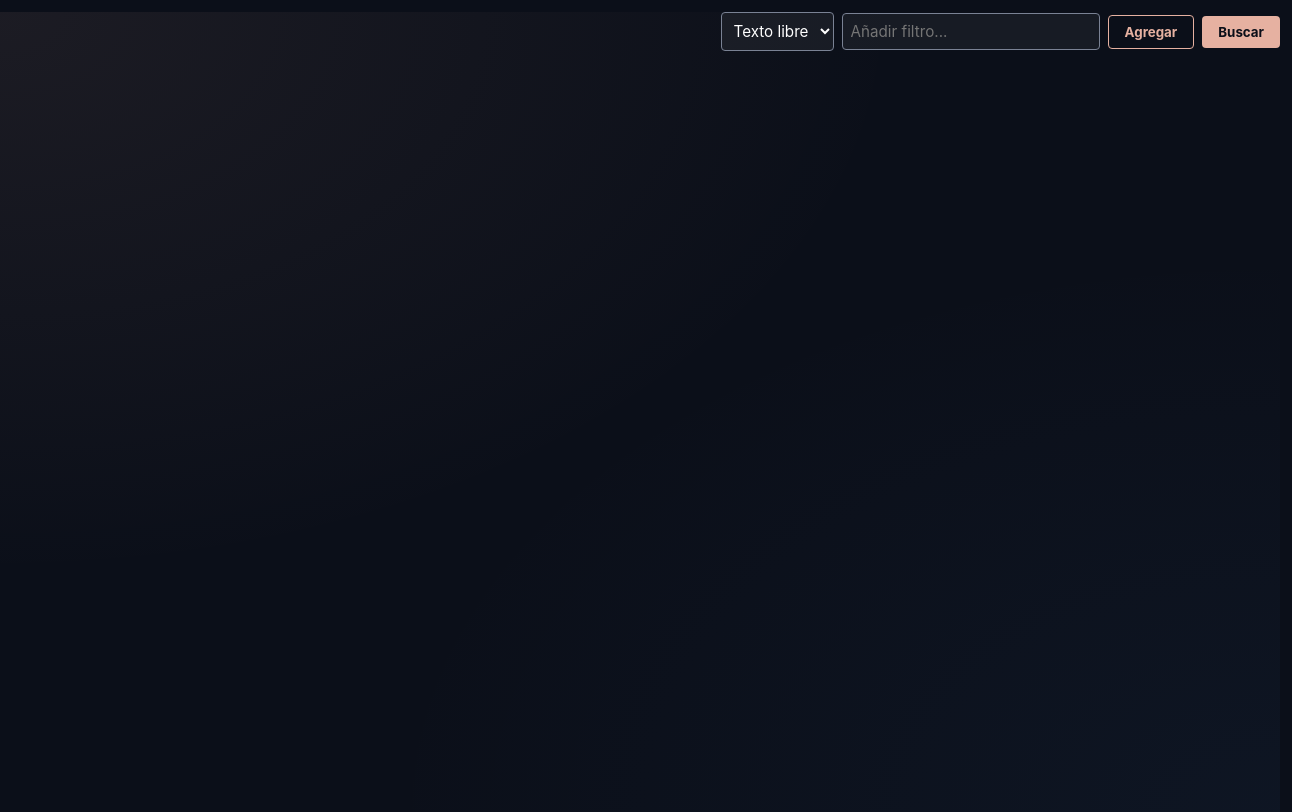
Scenario: SearchBar con nombres accesibles › el selector, el campo y el botón de quitar filtro tienen nombre
Expected: the dropdown named "Buscar en" is shown, [721,12,834,51]
In the field labelled "Añadir filtro": (971, 32) [842,13,1100,50], type "garcia"
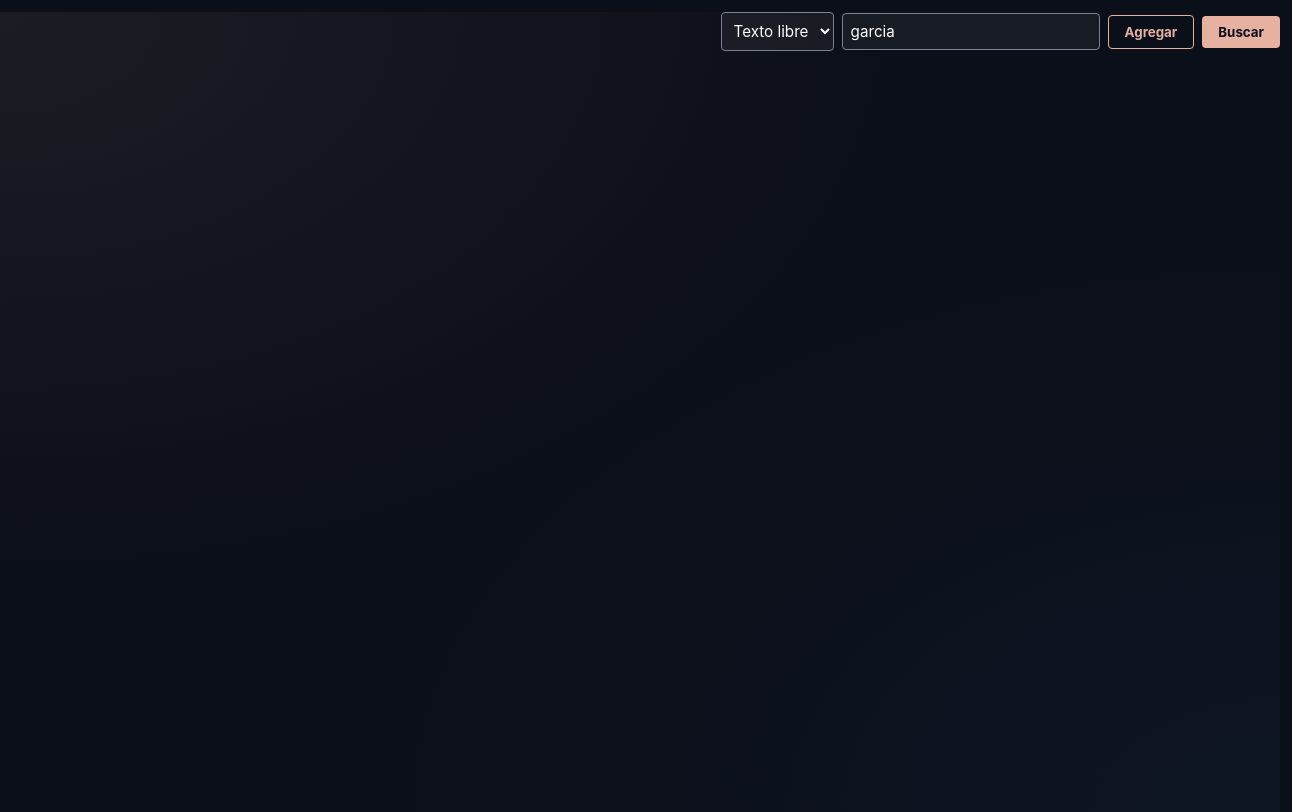
Submit the form named "Añadir filtro", box [721,12,1280,51]
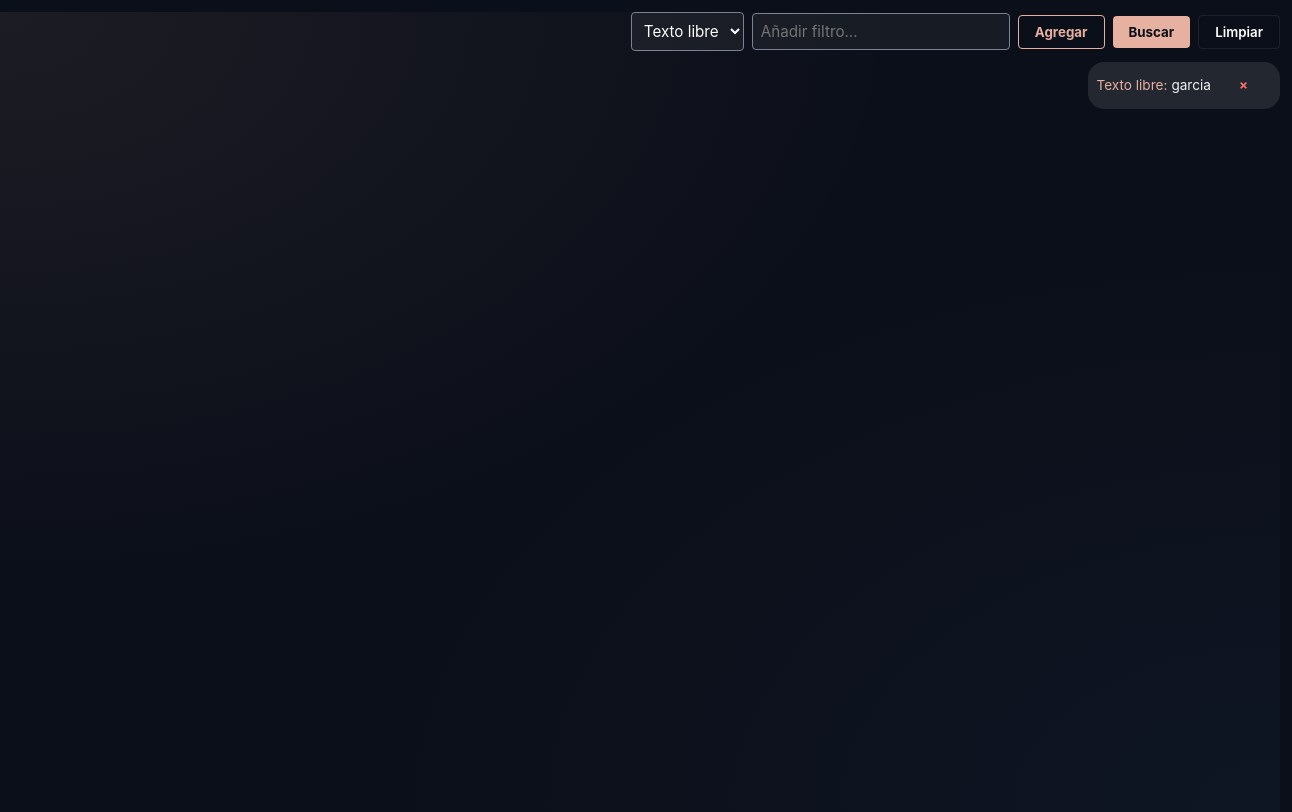
Expected: the button named "Quitar filtro Texto libre: garcia" is shown, [1215,65,1272,105]
